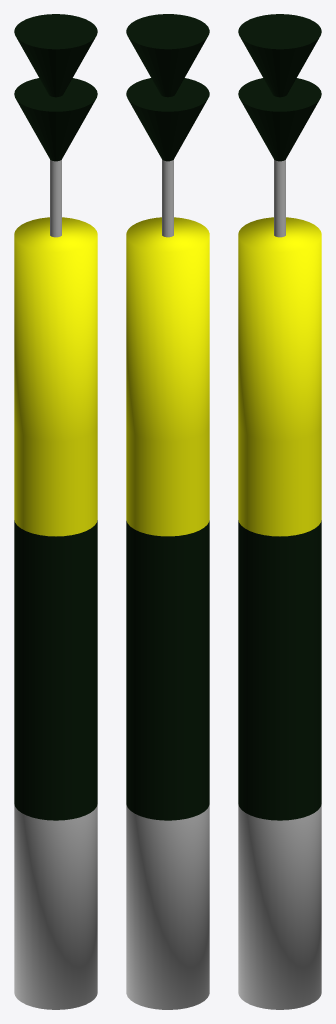
The model's file is Bcn-South.gltf.
The picture shows the model from 3 angles, left to right: view 1: azimuth 90°, elevation 25°; view 2: azimuth 150°, elevation 25°; view 3: azimuth 270°, elevation 25°; orthographic projection.
Visible parts, largest first — view 1: Cylinder.031, Cone 2.006, Cone 2.005, Axe.013; view 2: Cylinder.031, Cone 2.006, Cone 2.005, Axe.013; view 3: Cylinder.031, Cone 2.006, Cone 2.005, Axe.013.
Boxes of the visible parts, x1,y1,x2,y2 form: Cylinder.031: (14, 217, 97, 1009); Cone 2.006: (14, 14, 97, 97); Cone 2.005: (14, 78, 97, 161); Axe.013: (50, 160, 61, 237); Cylinder.031: (126, 217, 209, 1009); Cone 2.006: (126, 14, 209, 97); Cone 2.005: (126, 78, 209, 161); Axe.013: (162, 159, 173, 237); Cylinder.031: (238, 217, 321, 1009); Cone 2.006: (238, 14, 321, 97); Cone 2.005: (238, 78, 321, 161); Axe.013: (274, 160, 285, 237).
Bounding box in the file's own units: 0.4 × 5.07 × 0.4.
